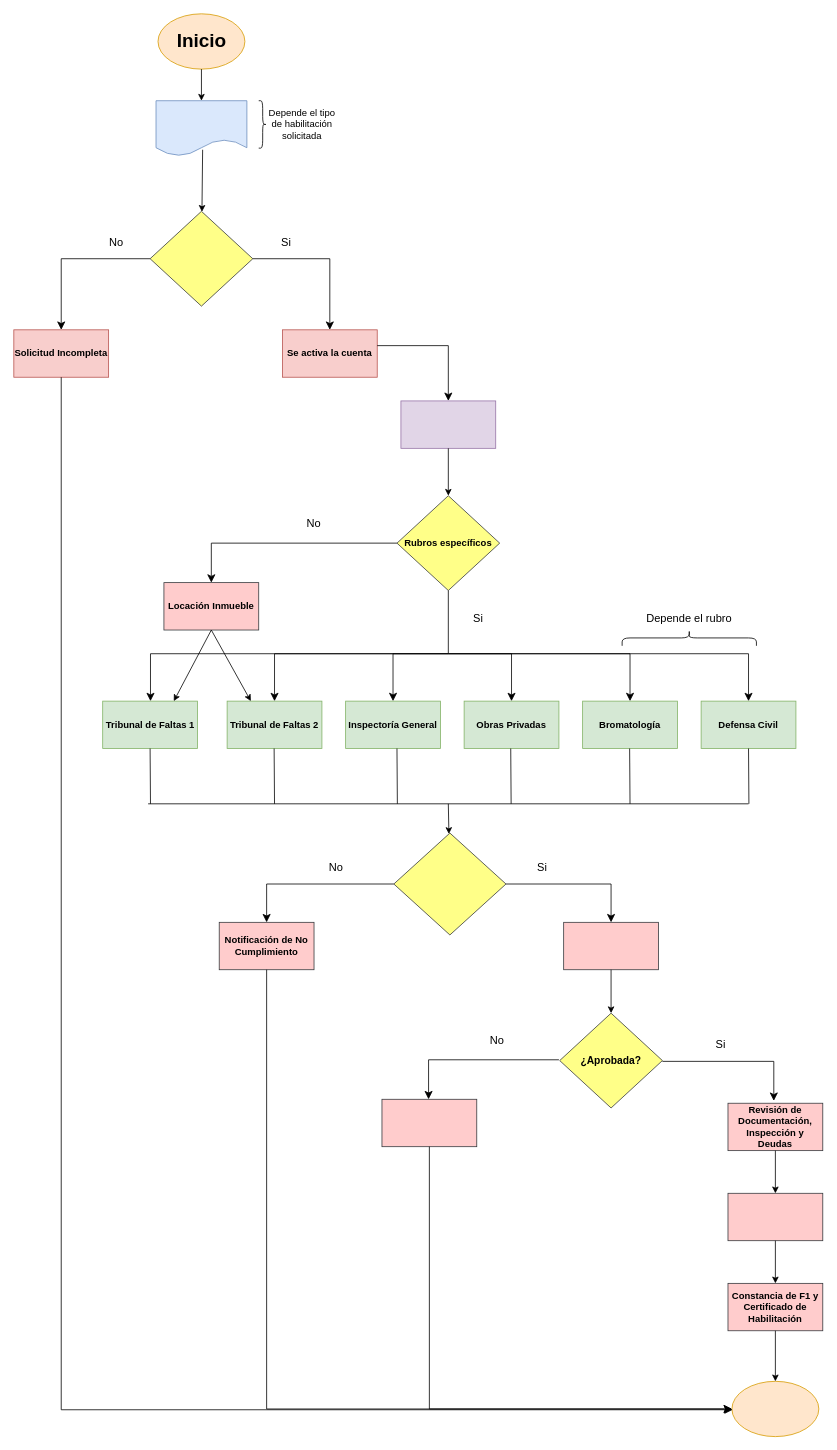
Some shapes in this 837 by 1450 pixel diagram are drawn without their labels. The shapes that lost their labels are listed below. From the top down, each one's box as (x1, y1, x2, y2) in pixels, then its label:
(155, 100, 247, 156): Revisar solicitud vía email
(149, 211, 253, 306): ¿Cumple requisitos?
(400, 400, 496, 448): Inspección del Comercio
(393, 832, 506, 935): ¿Cumple Inspección?
(563, 922, 658, 970): Revisión Interna
(381, 1098, 477, 1147): Notificación de Rechazo
(727, 1193, 823, 1241): Completar Formulario F1
(731, 1381, 819, 1437): Fin
